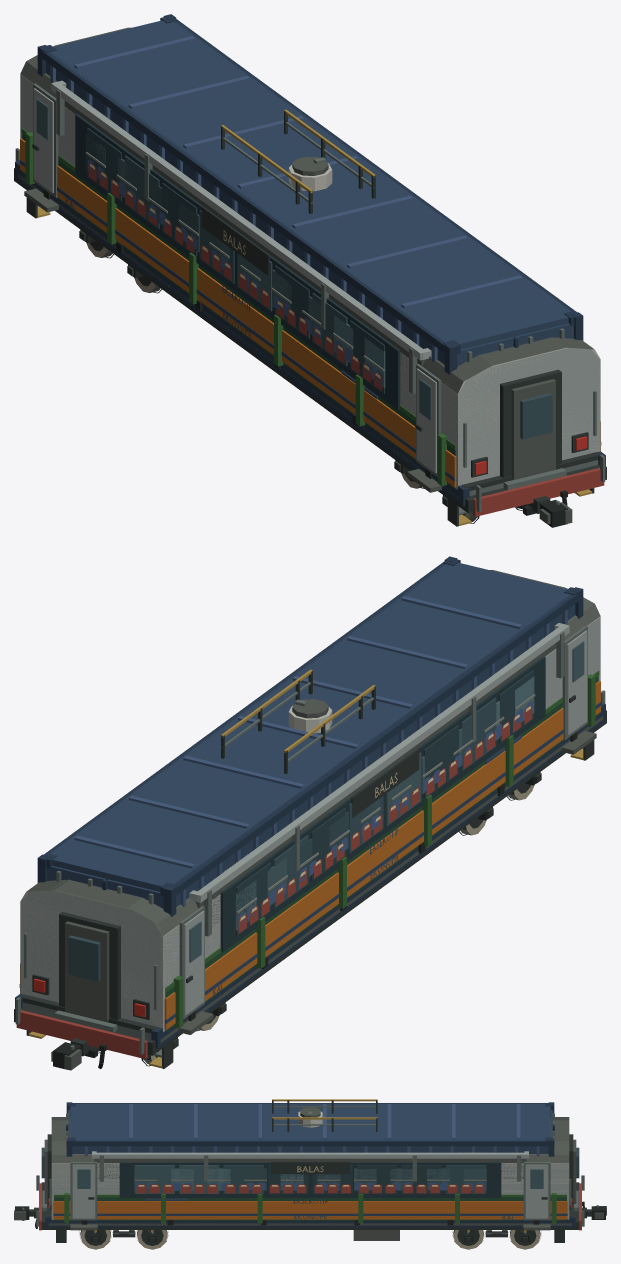
Rendered from riverside-carriage-kit.glb.
3 renders of one model, top to bottom at view 1: azimuth 30°, elevation 25°; view 2: azimuth 150°, elevation 25°; view 3: azimuth 270°, elevation 25°, orthographic. The views are drawn at different scales.
Visible parts, largest first — view 1: GEO-carriage-container-body, GEO-carriage-executive-body, GEO-carriage-economy-body, GEO-executive-windows, GEO-carriage-ballast-body, GEO-executive-underframe, GEO-carriage-harvest-body, GEO-economy-windows, GEO-carriage-tank-body, GEO-executive-coupler-1; view 2: GEO-carriage-container-body, GEO-carriage-executive-body, GEO-carriage-economy-body, GEO-executive-windows, GEO-carriage-ballast-body, GEO-executive-underframe, GEO-carriage-harvest-body, GEO-economy-windows, GEO-carriage-tank-body, GEO-executive-coupler--1; view 3: GEO-carriage-container-body, GEO-carriage-executive-body, GEO-carriage-economy-body, GEO-executive-windows, GEO-carriage-ballast-body, GEO-executive-underframe, GEO-economy-windows, GEO-carriage-harvest-body, GEO-carriage-tank-body, GEO-PIVOT-executive-wheel--1--0.79-1, GEO-PIVOT-executive-wheel-1-0.79-1, GEO-PIVOT-executive-wheel--1-0.79-1 (+5 smaller).
Part boxes in pixels (left/top/right/bottom): GEO-carriage-container-body: left=15, top=14, right=605, bottom=506; GEO-carriage-executive-body: left=19, top=55, right=601, bottom=492; GEO-carriage-economy-body: left=20, top=27, right=600, bottom=488; GEO-executive-windows: left=36, top=99, right=431, bottom=420; GEO-carriage-ballast-body: left=51, top=80, right=431, bottom=394; GEO-executive-underframe: left=14, top=148, right=606, bottom=526; GEO-carriage-harvest-body: left=21, top=128, right=455, bottom=489; GEO-economy-windows: left=86, top=134, right=385, bottom=387; GEO-carriage-tank-body: left=221, top=109, right=375, bottom=213; GEO-executive-coupler-1: left=528, top=496, right=572, bottom=527; GEO-carriage-container-body: left=15, top=556, right=605, bottom=1048; GEO-carriage-executive-body: left=19, top=597, right=601, bottom=1034; GEO-carriage-economy-body: left=20, top=570, right=600, bottom=1030; GEO-executive-windows: left=189, top=641, right=584, bottom=962; GEO-carriage-ballast-body: left=189, top=623, right=569, bottom=936; GEO-executive-underframe: left=14, top=690, right=606, bottom=1068; GEO-carriage-harvest-body: left=165, top=671, right=599, bottom=1031; GEO-economy-windows: left=235, top=676, right=534, bottom=930; GEO-carriage-tank-body: left=221, top=669, right=375, bottom=773; GEO-executive-coupler--1: left=51, top=1038, right=92, bottom=1070; GEO-carriage-container-body: left=45, top=1102, right=575, bottom=1227; GEO-carriage-executive-body: left=41, top=1117, right=579, bottom=1230; GEO-carriage-economy-body: left=51, top=1117, right=569, bottom=1219; GEO-executive-windows: left=77, top=1165, right=543, bottom=1193; GEO-carriage-ballast-body: left=92, top=1151, right=528, bottom=1181; GEO-executive-underframe: left=35, top=1175, right=584, bottom=1242; GEO-economy-windows: left=134, top=1168, right=486, bottom=1190; GEO-carriage-harvest-body: left=54, top=1193, right=566, bottom=1223; GEO-carriage-tank-body: left=272, top=1099, right=377, bottom=1131; GEO-PIVOT-executive-wheel--1--0.79-1: left=508, top=1230, right=541, bottom=1249; GEO-PIVOT-executive-wheel-1-0.79-1: left=79, top=1230, right=112, bottom=1249; GEO-PIVOT-executive-wheel--1-0.79-1: left=452, top=1230, right=485, bottom=1249.
Bounding box in the file's own units: 3.17 × 4.08 × 16.54.
